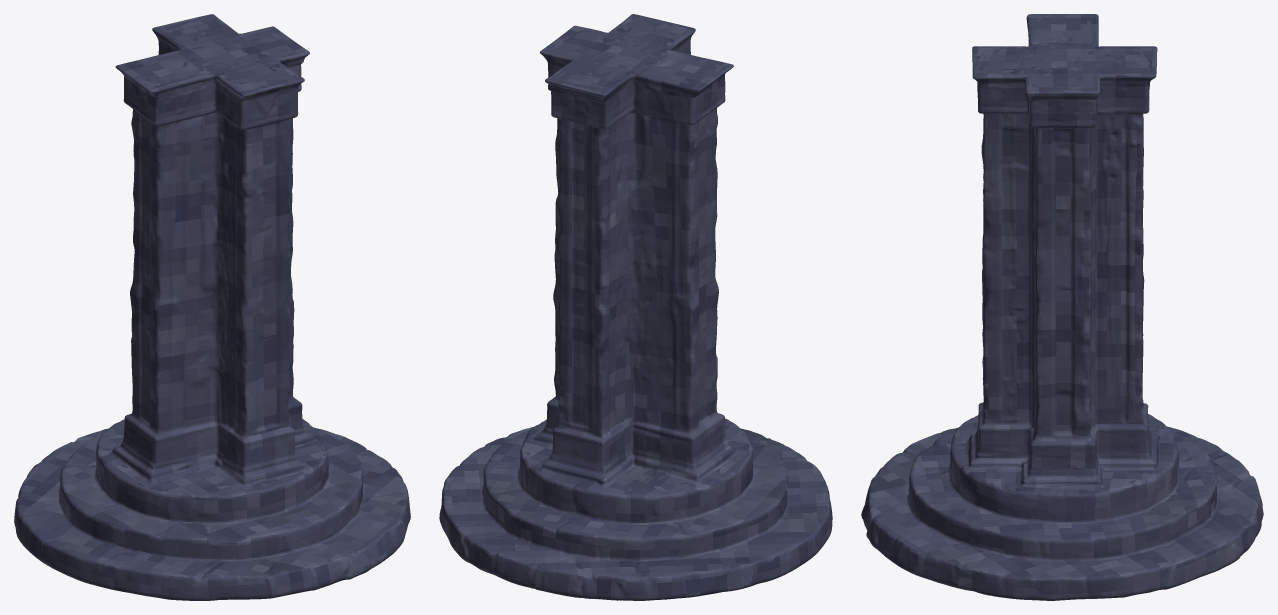
Rendered from weathered-monolith-pillar-generated-2026-04-19T23-24-06-758Z.high.glb.
The picture shows the model from 3 angles, left to right: view 1: azimuth 30°, elevation 25°; view 2: azimuth 150°, elevation 25°; view 3: azimuth 270°, elevation 25°; orthographic projection.
Parts seen in each view (by area): view 1: temp_mesh.ply; view 2: temp_mesh.ply; view 3: temp_mesh.ply.
Part boxes in pixels (bbox=[...]): temp_mesh.ply: bbox=[14, 14, 410, 600]; temp_mesh.ply: bbox=[439, 14, 832, 600]; temp_mesh.ply: bbox=[861, 14, 1263, 600].
Bounding box in the file's own units: 1.54 × 1.97 × 1.54.
1 material, 1 textured.
